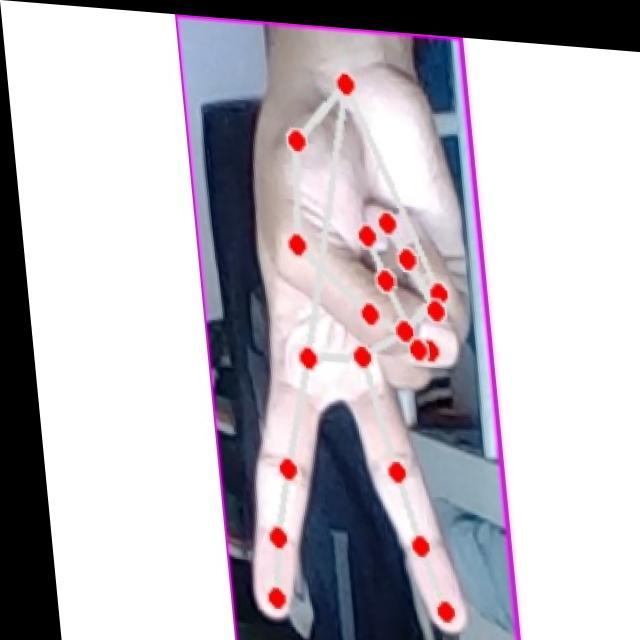V: (200, 47, 495, 634)
